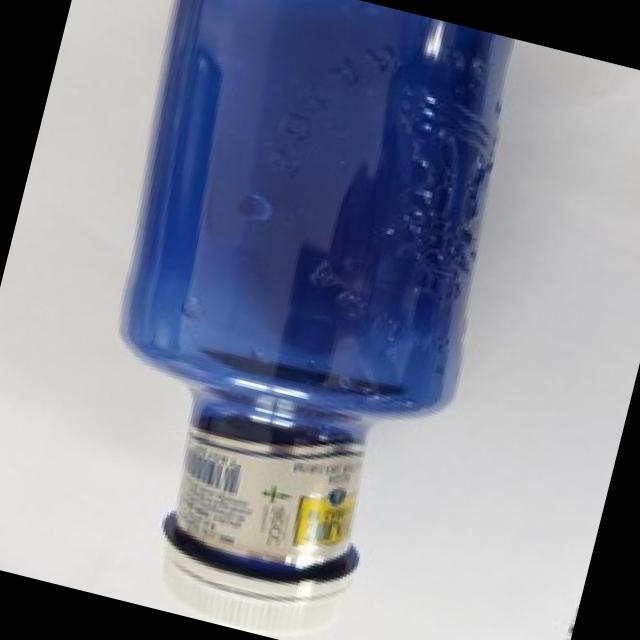good: (24, 0, 572, 640)
